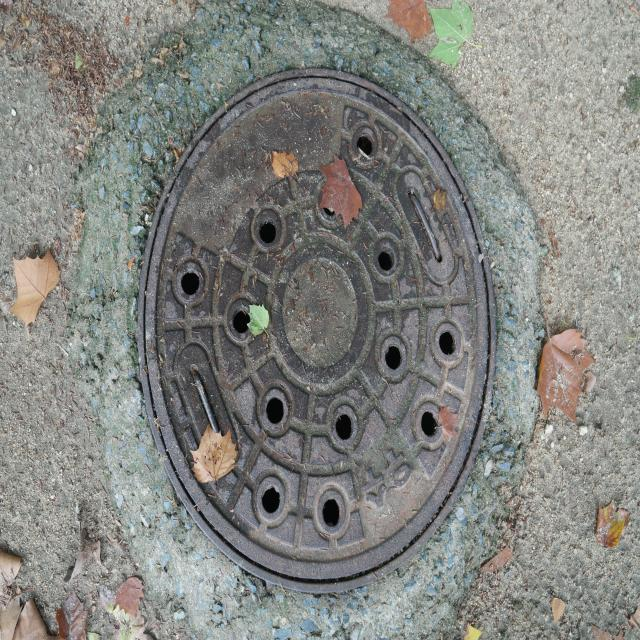manhole: (140, 70, 494, 591)
